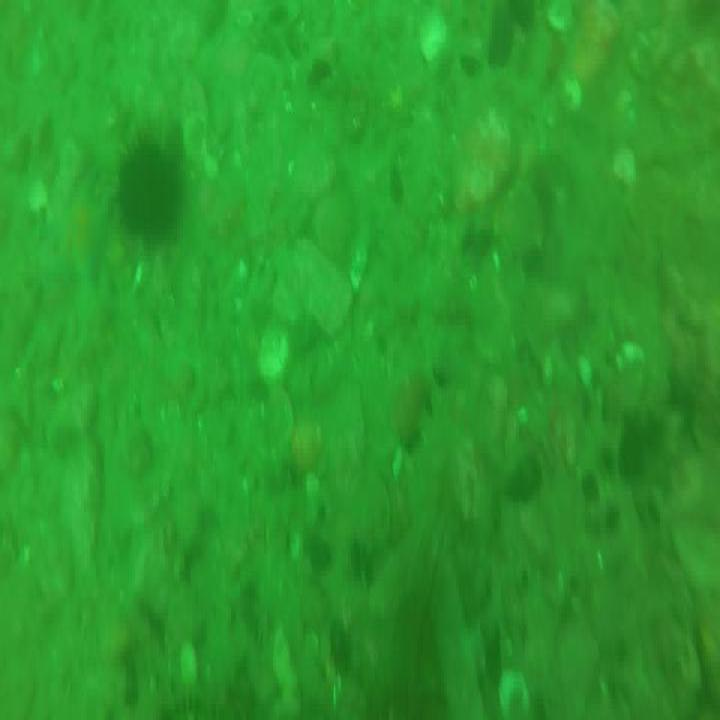echinus: (121, 128, 184, 245)
scallop: (498, 663, 532, 720), (415, 10, 449, 66), (257, 318, 286, 382), (547, 2, 574, 41), (182, 638, 196, 692)
